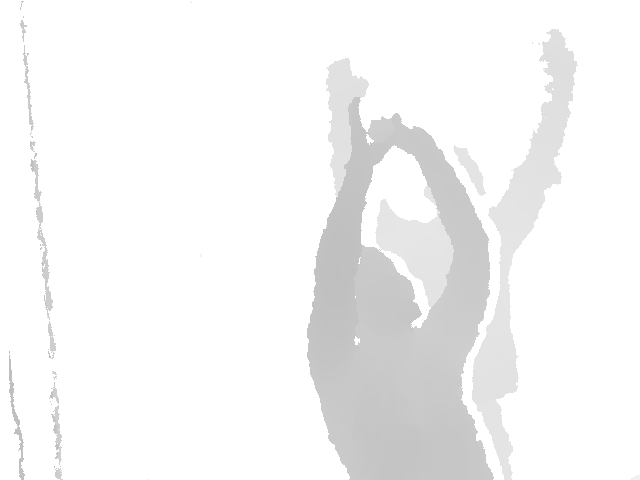hand: (382, 111, 446, 156), (347, 96, 382, 168), (538, 27, 578, 82), (323, 56, 369, 98)
head: (356, 244, 422, 336)
person: (322, 27, 578, 480), (305, 96, 494, 480)
